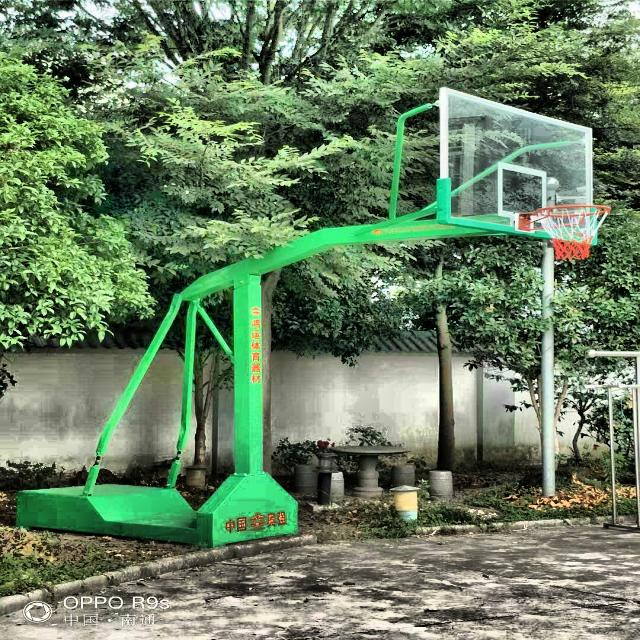rim: (534, 202, 610, 260)
